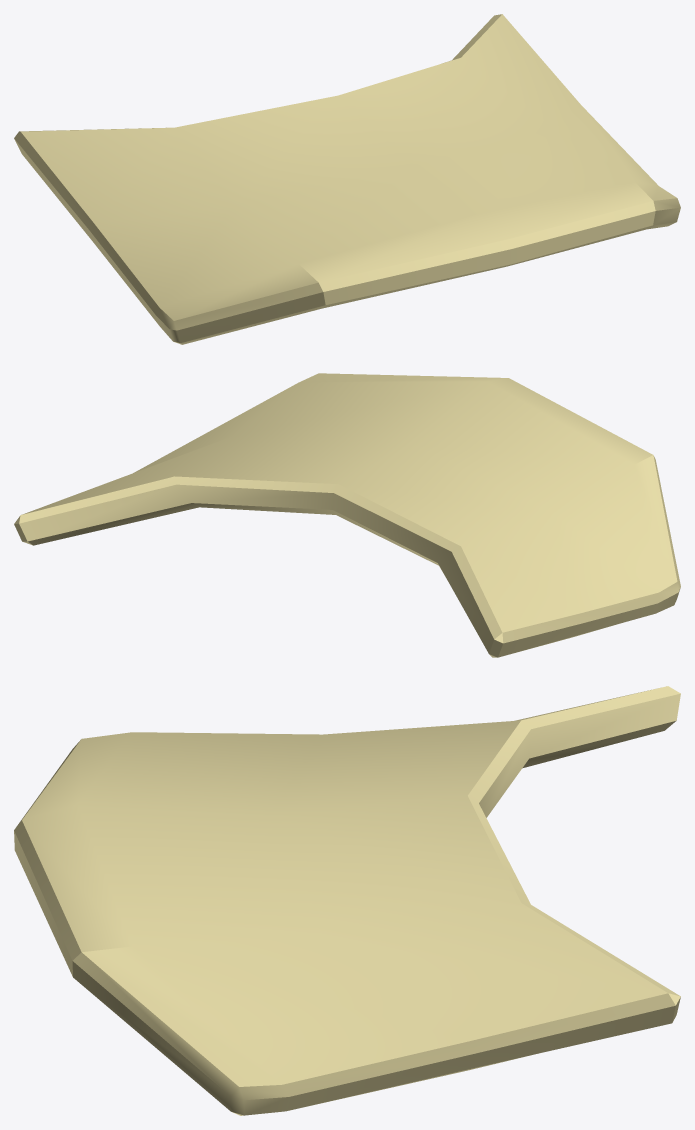
File: Cap Brim.fbx
The picture shows the model from 3 angles, top to bottom: view 1: azimuth 30°, elevation 25°; view 2: azimuth 150°, elevation 25°; view 3: azimuth 270°, elevation 25°; orthographic projection. The views are drawn at different scales.
Visible parts, largest first — view 1: Cap_Brim; view 2: Cap_Brim; view 3: Cap_Brim.
Boxes of the visible parts, x1,y1,x2,y2 form: Cap_Brim: (14,14,680,344); Cap_Brim: (14,373,680,657); Cap_Brim: (14,686,680,1115).
Bounding box in the file's own units: 7.01 × 1.67 × 6.09.
